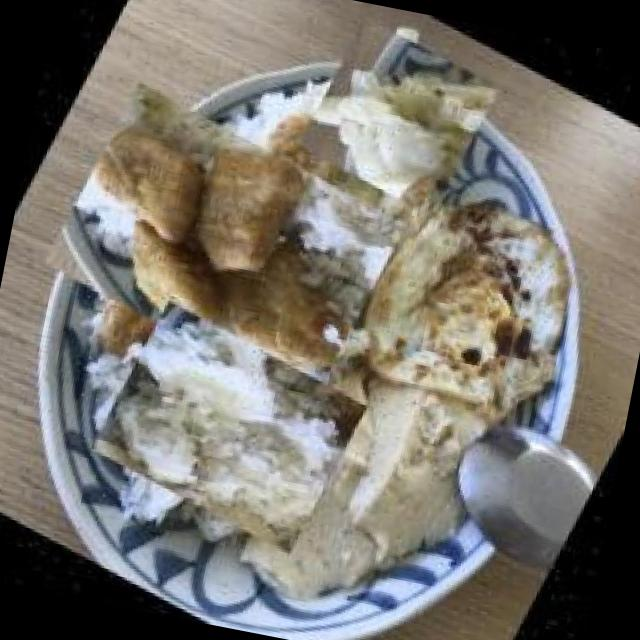chicken_nuggets: (41, 59, 410, 428)
chinese_sausage: (289, 8, 506, 224)
fried_eggs: (332, 158, 626, 460)
rice: (85, 284, 372, 570)
